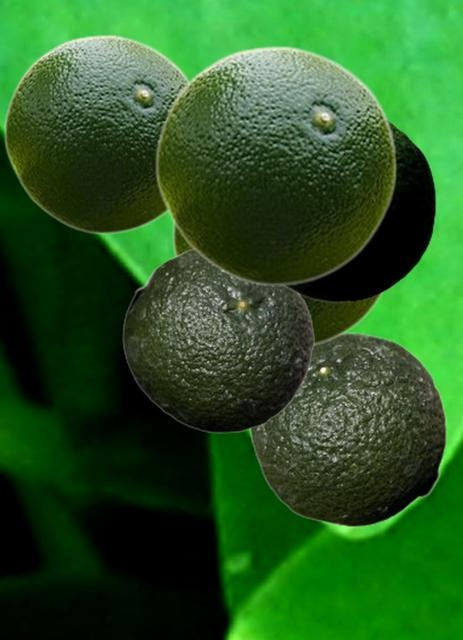calamansi: (154, 45, 397, 285), (249, 332, 446, 526), (3, 34, 190, 233), (122, 247, 314, 432), (281, 118, 435, 302), (171, 223, 387, 348)
